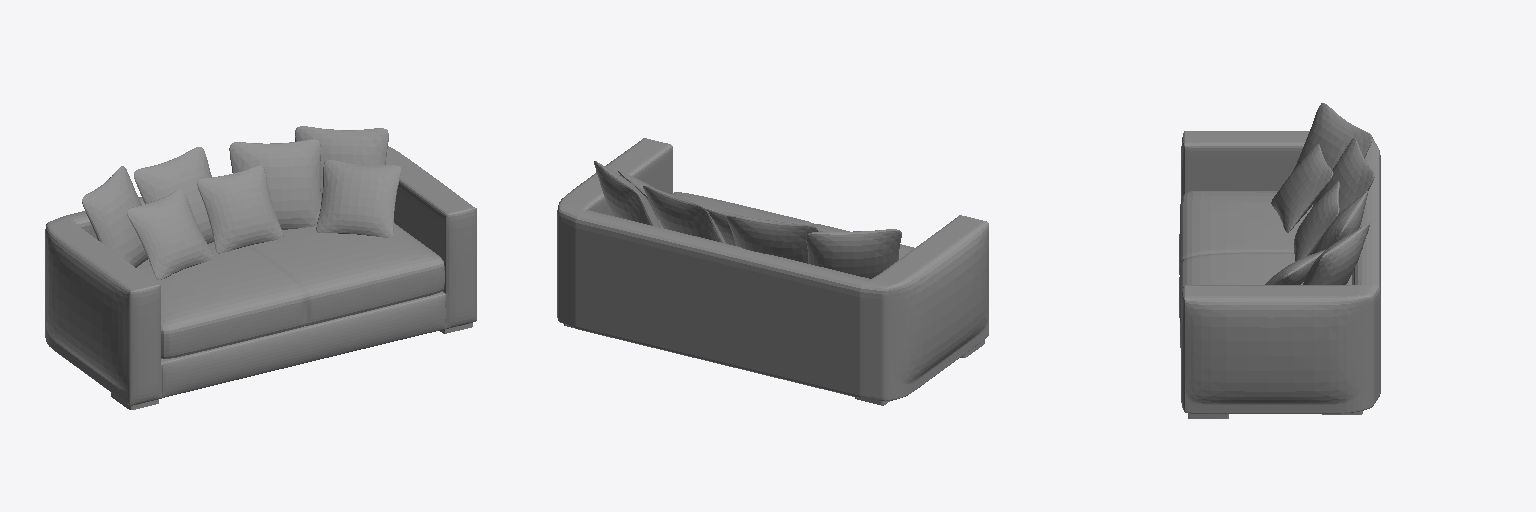
Rendered from sofa01.obj.
3 renders of one model, left to right at view 1: azimuth 30°, elevation 25°; view 2: azimuth 150°, elevation 25°; view 3: azimuth 270°, elevation 25°, orthographic.
Parts seen in each view (by area): view 1: polySurface1; view 2: polySurface1; view 3: polySurface1.
Boxes of the visible parts, x1=… form: polySurface1: x1=45, y1=126, x2=476, y2=409; polySurface1: x1=557, y1=138, x2=988, y2=405; polySurface1: x1=1179, y1=103, x2=1380, y2=418.
Size of the model in its own units: 343 by 144 by 165.